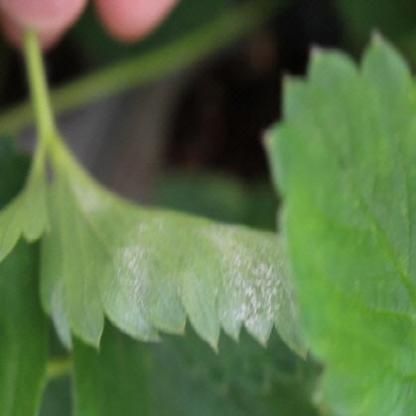Strawberry_Powdery_Mildew_Leaf: (37, 135, 322, 415)
